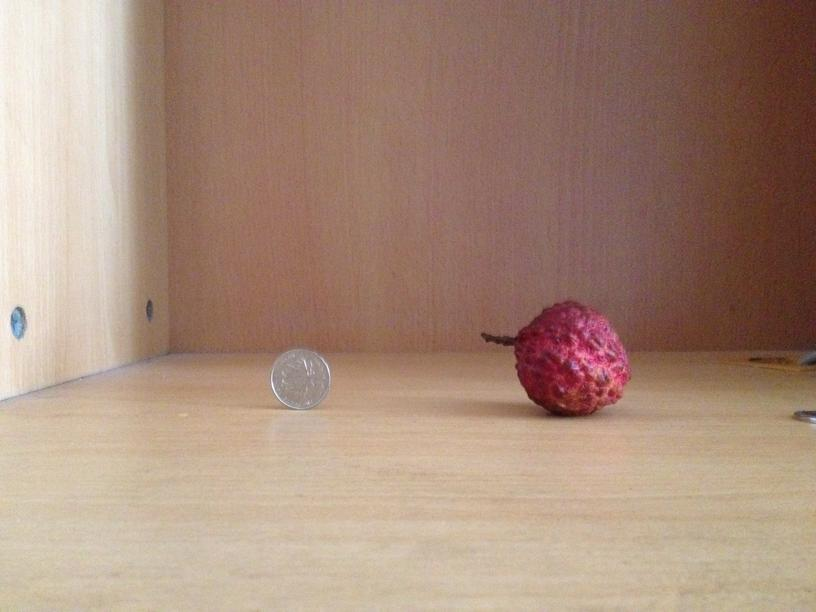coin: (271, 346, 332, 410)
litchi: (507, 299, 629, 416)
